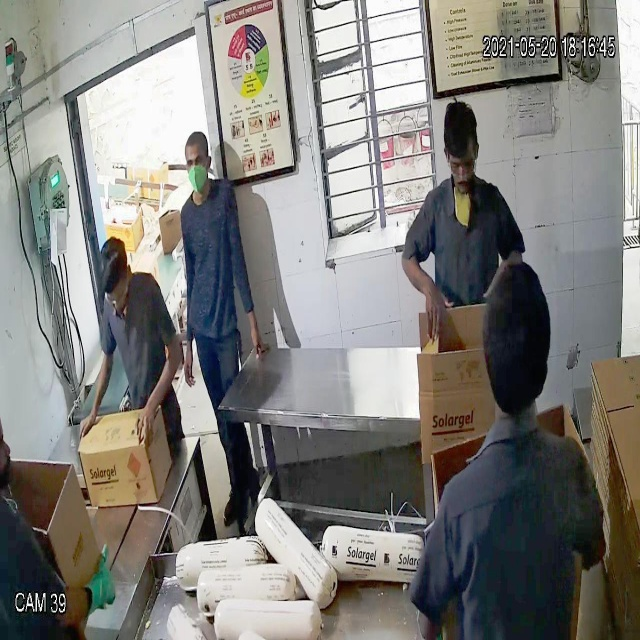Sin_gafas: (178, 150, 213, 173)
